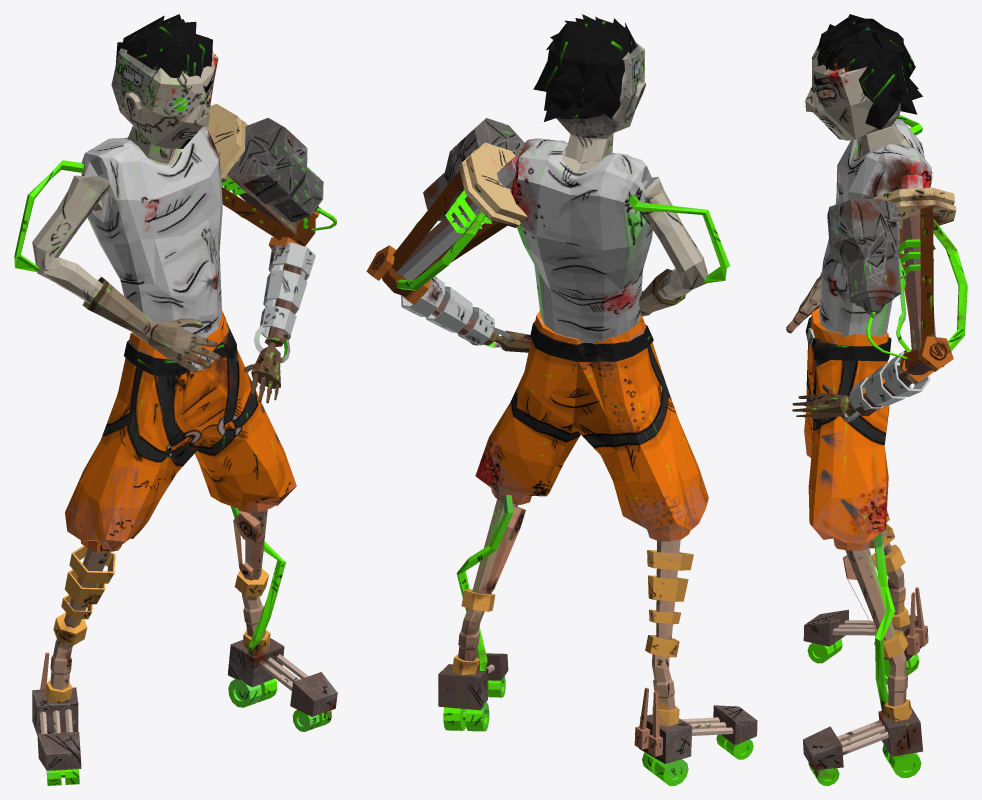
Rendered from CyborgFINALAnimation_000075.obj.
3 renders of one model, left to right at view 1: azimuth 30°, elevation 25°; view 2: azimuth 150°, elevation 25°; view 3: azimuth 270°, elevation 25°, orthographic. The views are drawn at different scales.
Visible parts, largest first — view 1: CyborgMesh_Cube.002; view 2: CyborgMesh_Cube.002; view 3: CyborgMesh_Cube.002.
Part boxes in pixels (x1,y1,x2,y2): CyborgMesh_Cube.002: (14,14,337,785); CyborgMesh_Cube.002: (366,14,757,785); CyborgMesh_Cube.002: (786,14,967,785).
Size of the model in its own units: 4.59 by 9.59 by 2.25.
